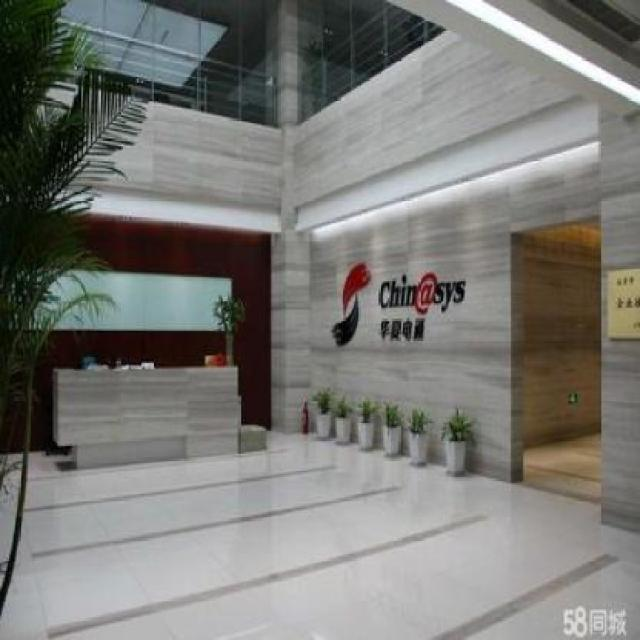frontdesk: (41, 357, 244, 478)
